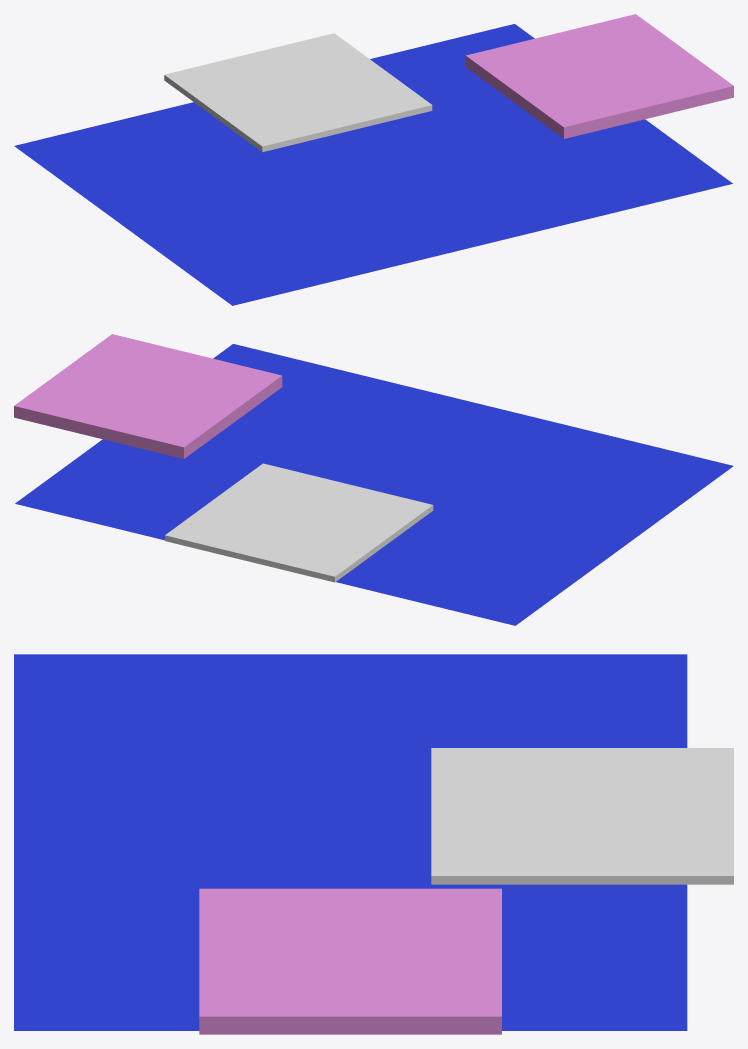
File: Glass_Experiment.fbx
3 views of the same model, one above another, from view 1: azimuth 30°, elevation 25°; view 2: azimuth 150°, elevation 25°; view 3: azimuth 270°, elevation 25° (orthographic). The views are drawn at different scales.
Visible parts, largest first — view 1: Plane, Plane.001, Plane.002; view 2: Plane, Plane.001, Plane.002; view 3: Plane, Plane.001, Plane.002.
Boxes of the visible parts, x1,y1,x2,y2 form: Plane: (14, 24, 732, 305); Plane.001: (465, 14, 733, 138); Plane.002: (164, 33, 432, 152); Plane: (15, 344, 733, 625); Plane.001: (14, 334, 282, 458); Plane.002: (165, 463, 433, 582); Plane: (14, 654, 687, 1030); Plane.001: (199, 888, 501, 1034); Plane.002: (431, 748, 733, 884).
Size of the model in its own units: 660 by 43.76 by 476.
